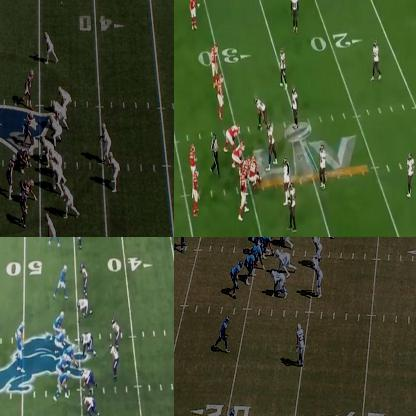CENTER: (38, 135, 51, 165), (250, 157, 263, 185), (67, 342, 78, 368), (262, 237, 273, 254)
DB: (371, 38, 381, 78), (296, 322, 304, 366), (290, 0, 300, 33), (20, 188, 28, 226), (406, 155, 413, 195), (80, 263, 88, 294), (75, 237, 84, 248)
LB: (318, 144, 328, 190), (291, 86, 300, 127), (8, 160, 16, 203), (313, 258, 322, 293), (279, 47, 286, 91), (25, 70, 34, 104), (110, 344, 119, 375), (112, 319, 122, 345), (312, 237, 322, 260)
QB: (102, 124, 113, 164), (16, 341, 24, 369), (189, 144, 196, 173), (252, 237, 262, 244)
SKILL: (108, 153, 120, 194), (62, 184, 76, 219), (217, 314, 229, 349), (44, 33, 56, 66), (217, 77, 226, 121), (57, 265, 69, 298), (192, 169, 200, 218), (58, 84, 72, 109), (189, 0, 199, 30), (231, 263, 240, 296), (45, 213, 57, 236), (210, 44, 218, 76), (15, 319, 24, 334), (179, 237, 190, 249), (222, 407, 236, 415), (52, 237, 62, 246)
